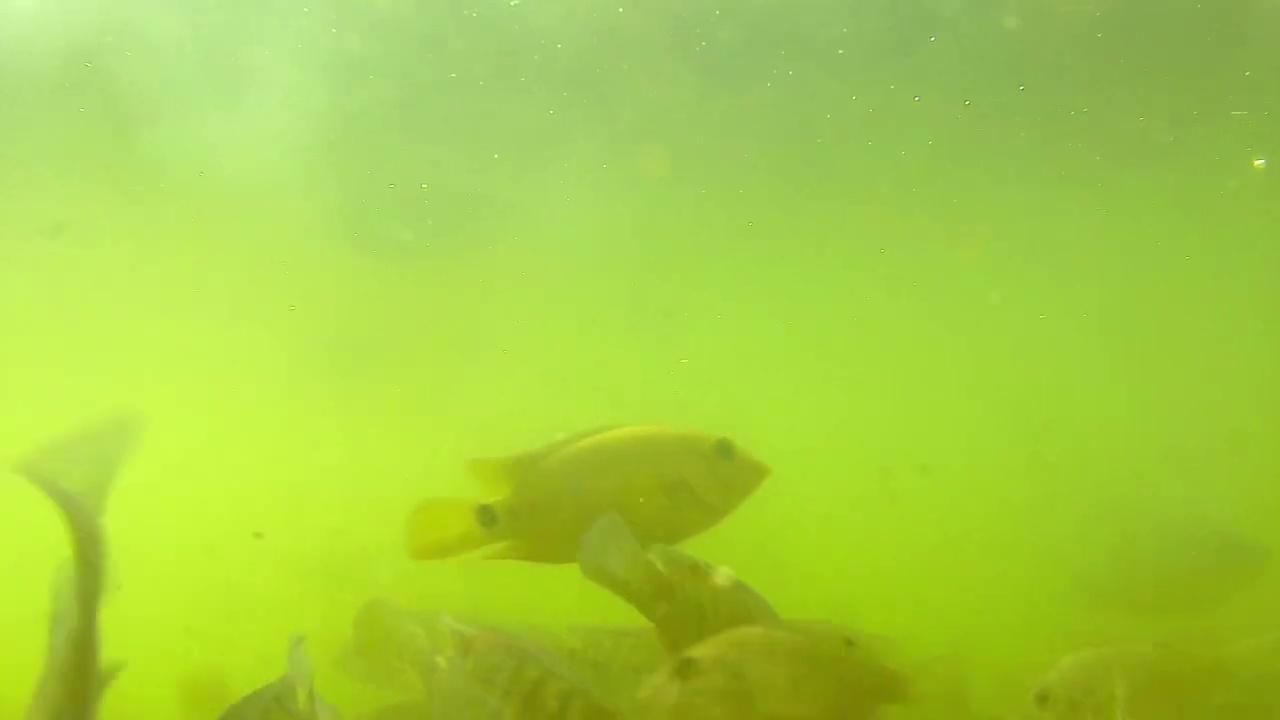Tilapia: (405, 418, 774, 572), (643, 622, 978, 720), (1023, 636, 1280, 720)
